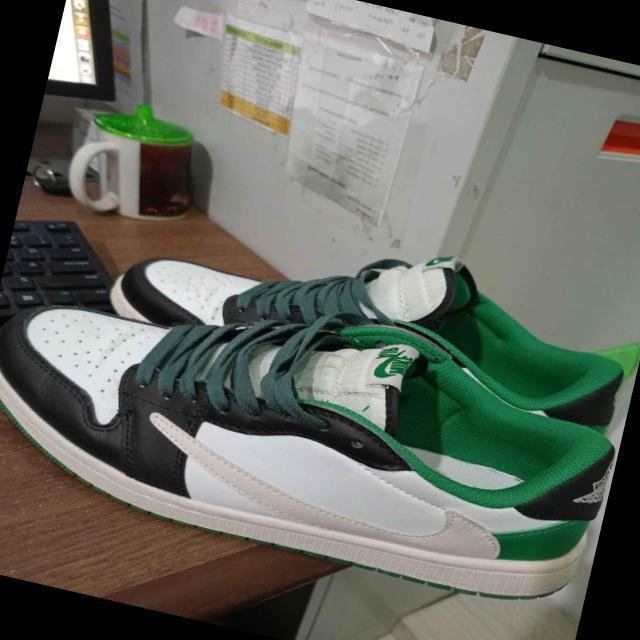nike fake jordan 1: (0, 233, 635, 619), (99, 182, 640, 449)
